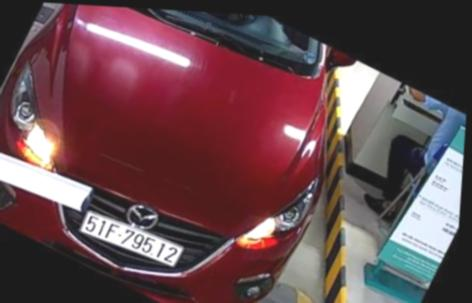License_Plate: (77, 207, 188, 272)
